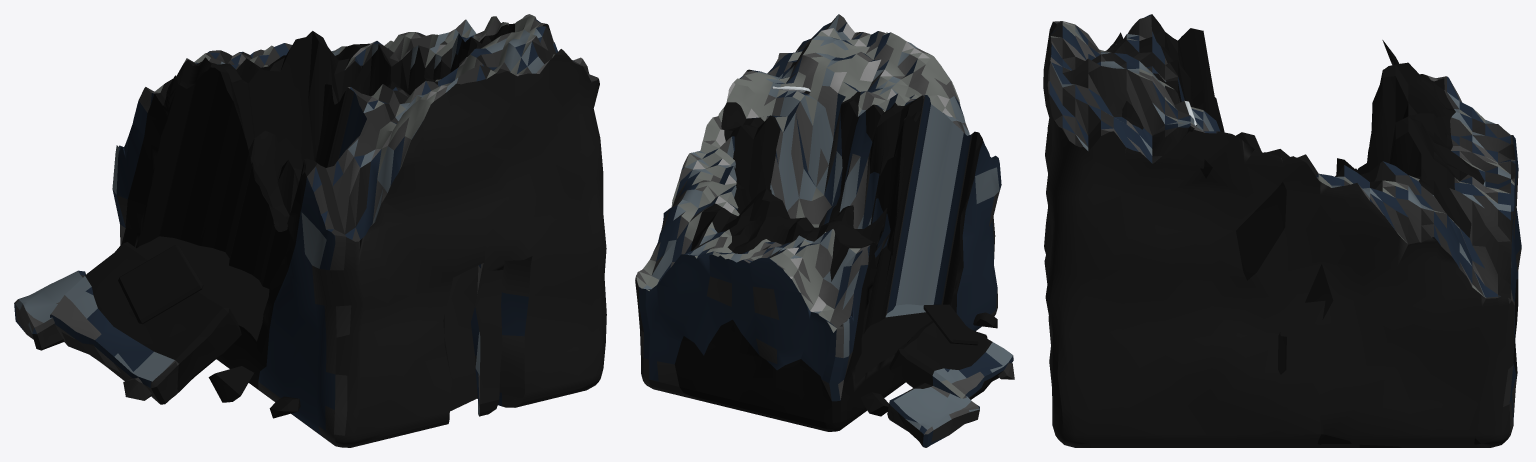
File: miners_roller_r_wreck.glb
3 views of the same model, side by side, from view 1: azimuth 30°, elevation 25°; view 2: azimuth 150°, elevation 25°; view 3: azimuth 270°, elevation 25° (orthographic). The views are drawn at different scales.
Visible parts, largest first — view 1: miners_roller_r_wreck; view 2: miners_roller_r_wreck; view 3: miners_roller_r_wreck.
Part boxes in pixels (left/top/right/bottom): miners_roller_r_wreck: left=14, top=14, right=606, bottom=447; miners_roller_r_wreck: left=635, top=14, right=1014, bottom=447; miners_roller_r_wreck: left=1043, top=14, right=1521, bottom=447.
Size of the model in its own units: 19.45 by 15.88 by 18.69.
